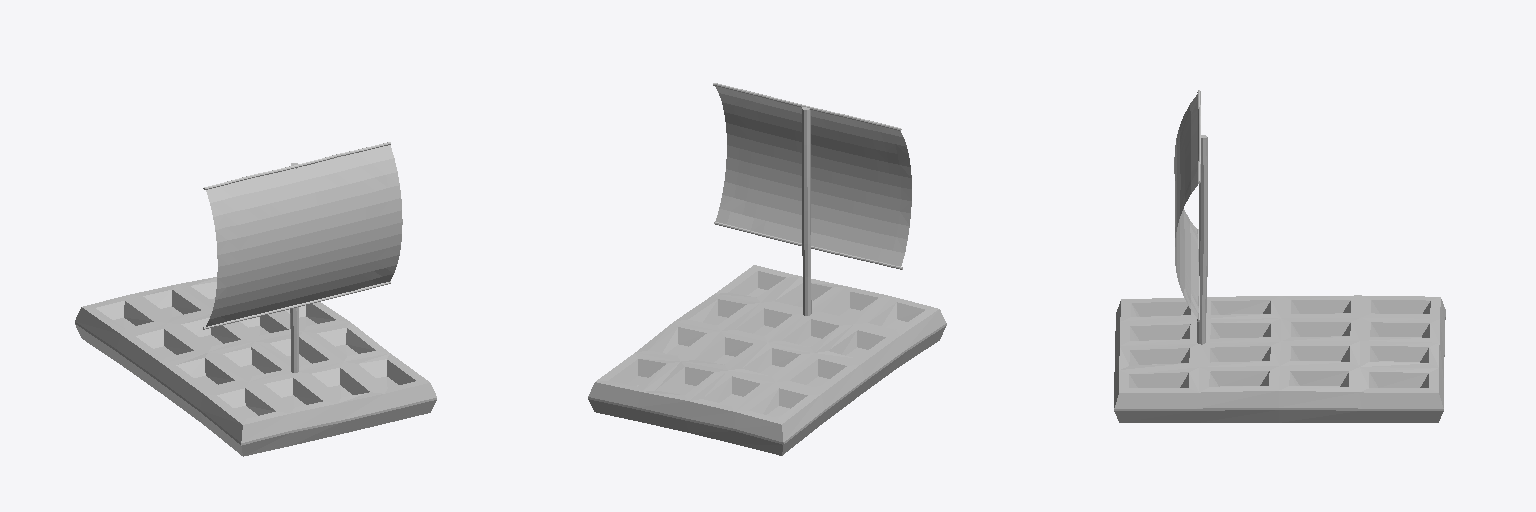
File: Gofrowa lodka.obj
3 views of the same model, side by side, from view 1: azimuth 30°, elevation 25°; view 2: azimuth 150°, elevation 25°; view 3: azimuth 270°, elevation 25° (orthographic).
Visible parts, largest first — view 1: Plane; view 2: Plane; view 3: Plane.
Part boxes in pixels (bbox=[...]): Plane: bbox=[75, 142, 436, 456]; Plane: bbox=[588, 83, 946, 455]; Plane: bbox=[1114, 90, 1445, 422].
Size of the model in its own units: 2.14 by 2.51 by 3.12.